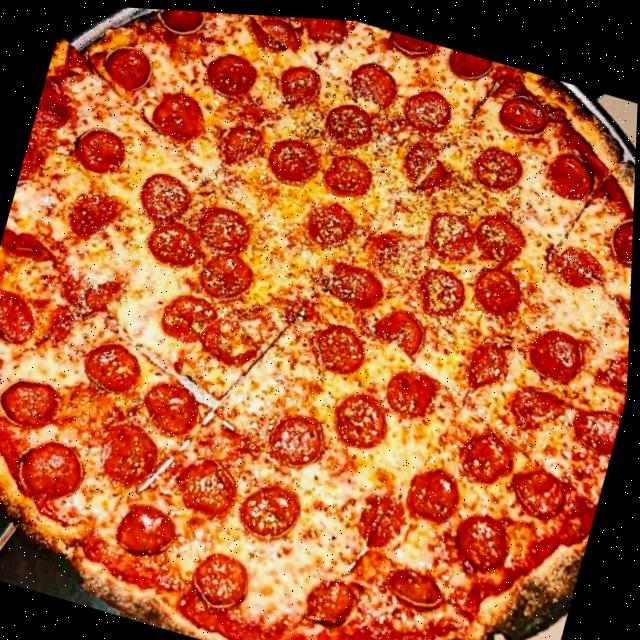pepperoni: (332, 45, 463, 135), (148, 280, 270, 374), (184, 195, 275, 306), (421, 191, 536, 275), (83, 401, 172, 489), (10, 423, 97, 509), (373, 23, 494, 82), (167, 441, 254, 518), (508, 437, 581, 526), (298, 303, 381, 381), (187, 538, 265, 617), (72, 327, 156, 400), (237, 466, 314, 545), (303, 553, 375, 636), (520, 311, 599, 385), (260, 396, 334, 473), (450, 496, 523, 574), (328, 374, 400, 452), (112, 490, 187, 564), (348, 474, 420, 551), (397, 450, 471, 524), (451, 410, 525, 484), (0, 367, 72, 438), (538, 225, 616, 289), (127, 160, 198, 229), (260, 121, 328, 193), (138, 369, 209, 437), (316, 85, 382, 156), (382, 546, 457, 608), (490, 74, 560, 140), (381, 357, 452, 422), (453, 326, 522, 392), (64, 113, 132, 179), (145, 80, 213, 146), (407, 254, 475, 320), (196, 38, 265, 103), (393, 129, 458, 198), (62, 183, 129, 249), (540, 136, 604, 205), (505, 370, 573, 434), (295, 189, 363, 253), (371, 292, 436, 358), (324, 250, 395, 310), (564, 387, 626, 455), (0, 210, 64, 275), (139, 215, 209, 274), (317, 137, 381, 201), (465, 132, 531, 194), (94, 36, 162, 96), (365, 213, 424, 281), (210, 108, 269, 172), (473, 254, 532, 315), (0, 275, 48, 348), (234, 11, 310, 56), (273, 50, 328, 112), (54, 266, 115, 320), (32, 74, 81, 138), (14, 132, 50, 205), (594, 323, 631, 384), (605, 197, 635, 267), (145, 7, 208, 37), (296, 14, 354, 44), (606, 277, 633, 326)
pizza: (0, 0, 640, 640)
